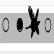correct: (16, 15, 24, 34)
not correct: (25, 5, 41, 40)
